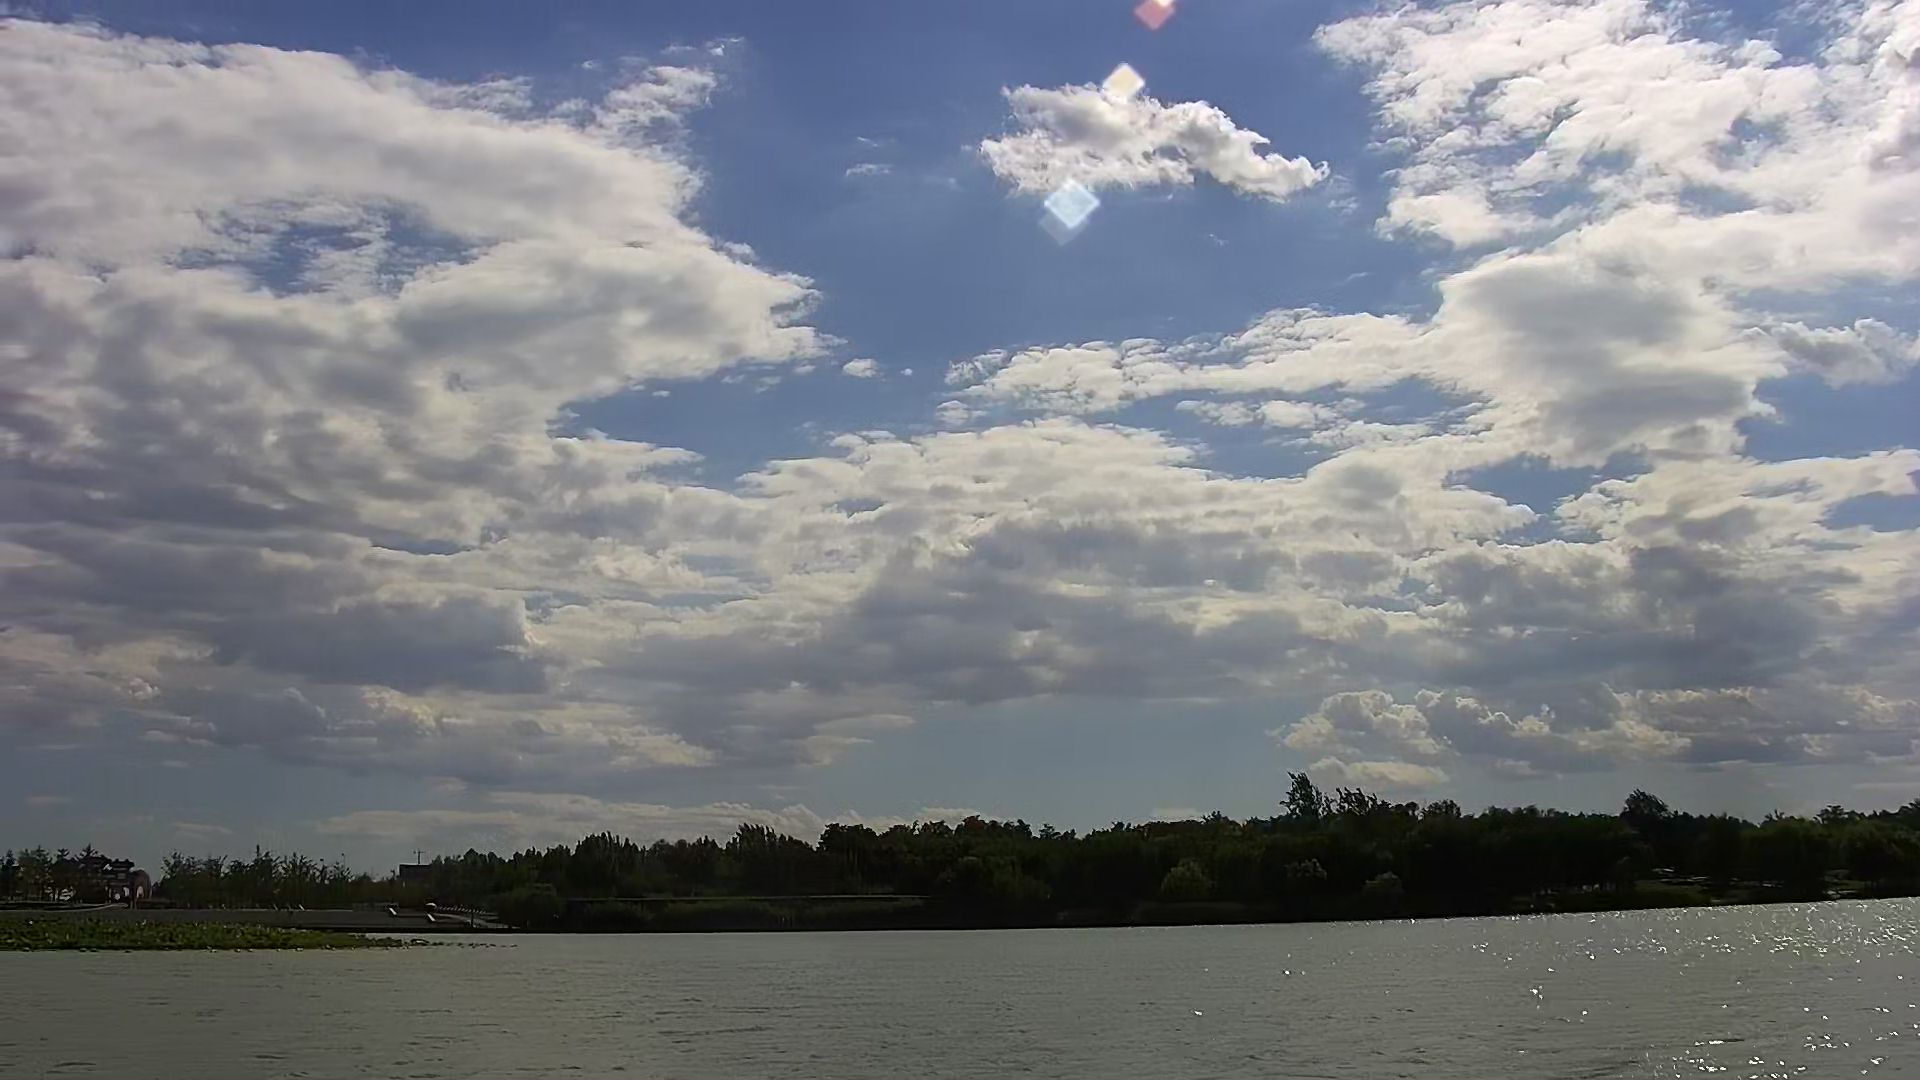harbor: (1, 902, 512, 938)
